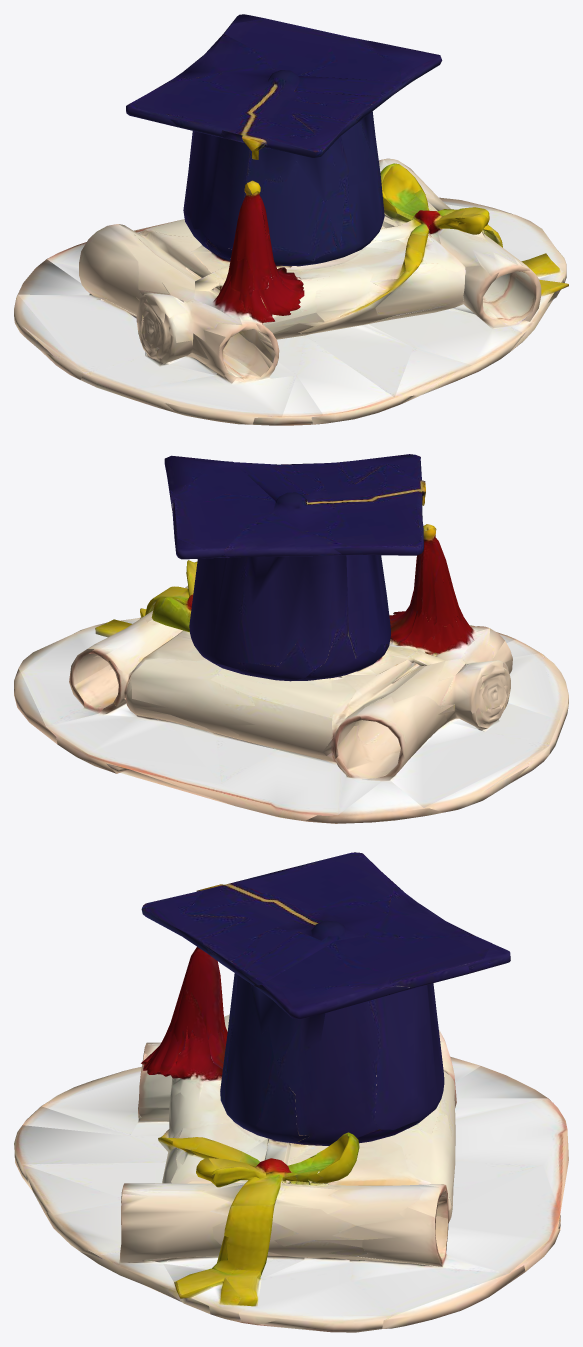
Rendered from lp_prop_abschlusshut.glb.
3 views of the same model, one above another, from view 1: azimuth 30°, elevation 25°; view 2: azimuth 150°, elevation 25°; view 3: azimuth 270°, elevation 25° (orthographic). The views are drawn at different scales.
Visible parts, largest first — view 1: abschlusshut; view 2: abschlusshut; view 3: abschlusshut.
Boxes of the visible parts, left/top/right/bottom form: abschlusshut: left=14, top=14, right=568, bottom=425; abschlusshut: left=14, top=454, right=568, bottom=823; abschlusshut: left=14, top=852, right=568, bottom=1332.
Bounding box in the file's own units: 1.3 × 0.5771 × 1.1.
1 material, 1 textured.
